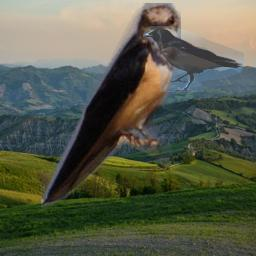Crow: (143, 26, 244, 92)
Swallow: (41, 3, 181, 211)
